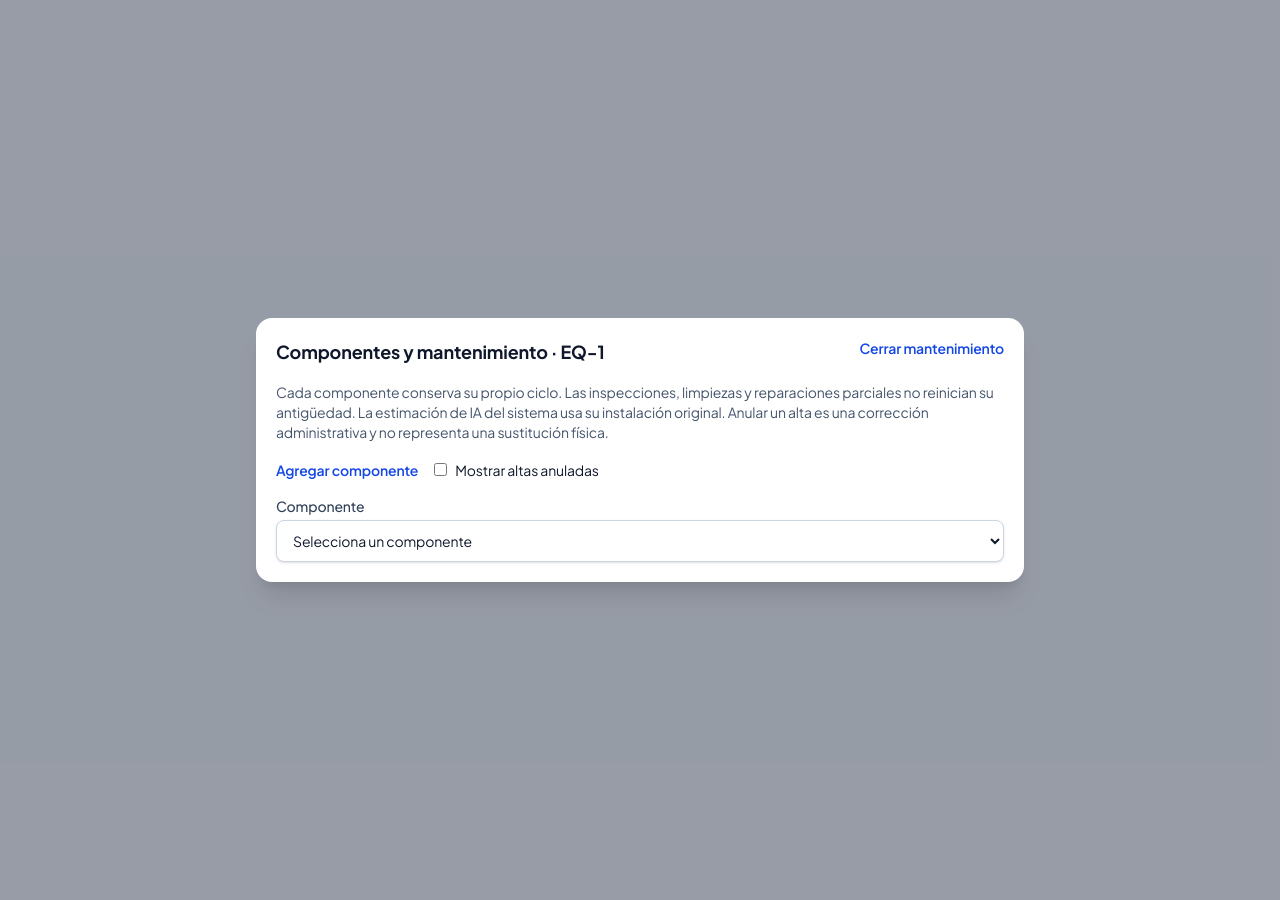
Mantenimiento por componentes › fecha inválida de componente no se transmite
The width and height of the screenshot is (1280, 900).
Click the button "Agregar componente" at (347, 470), box [276,460,418,480]
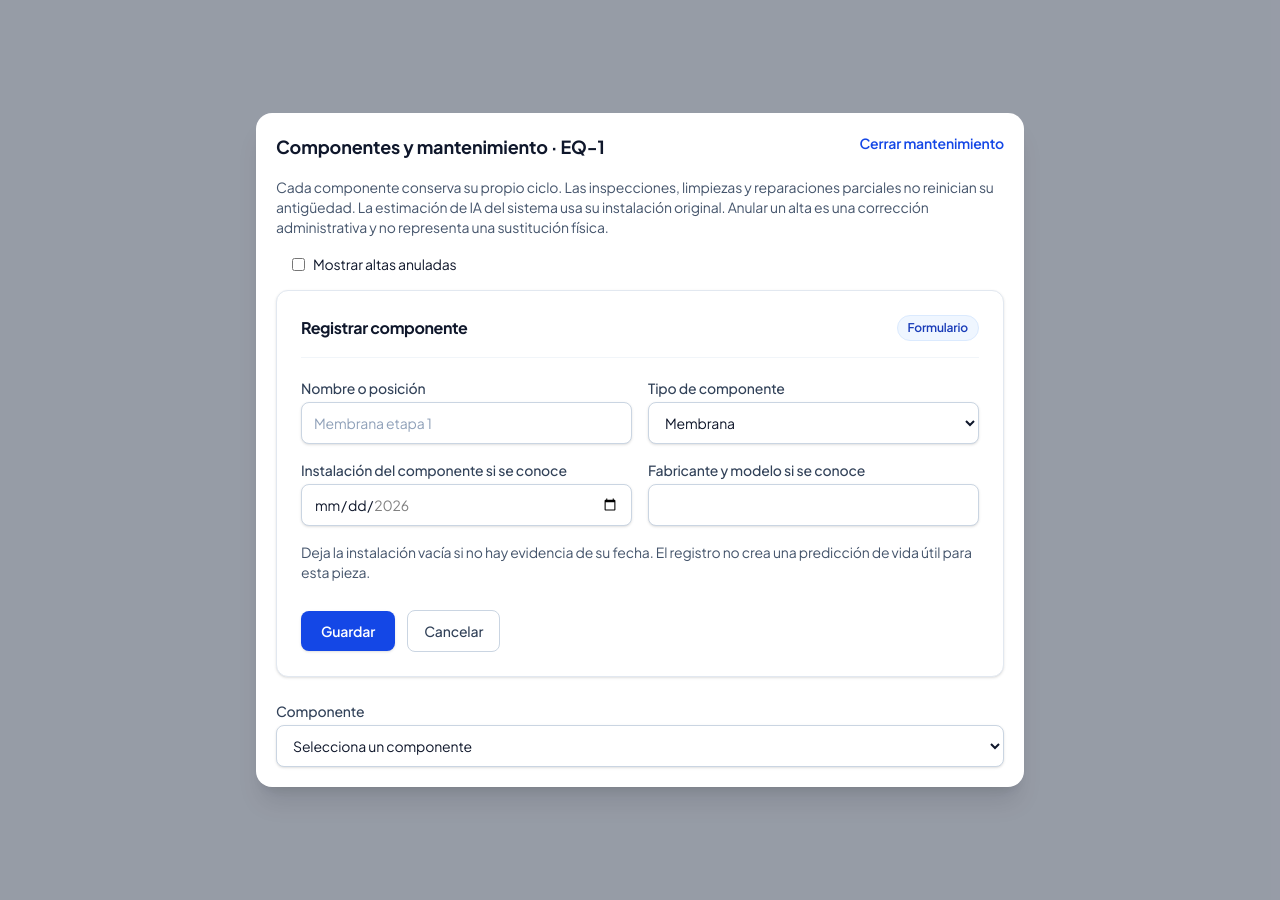
Type "Prefiltro" into the field labelled "Nombre o posición" at (466, 423), box [301,402,632,444]
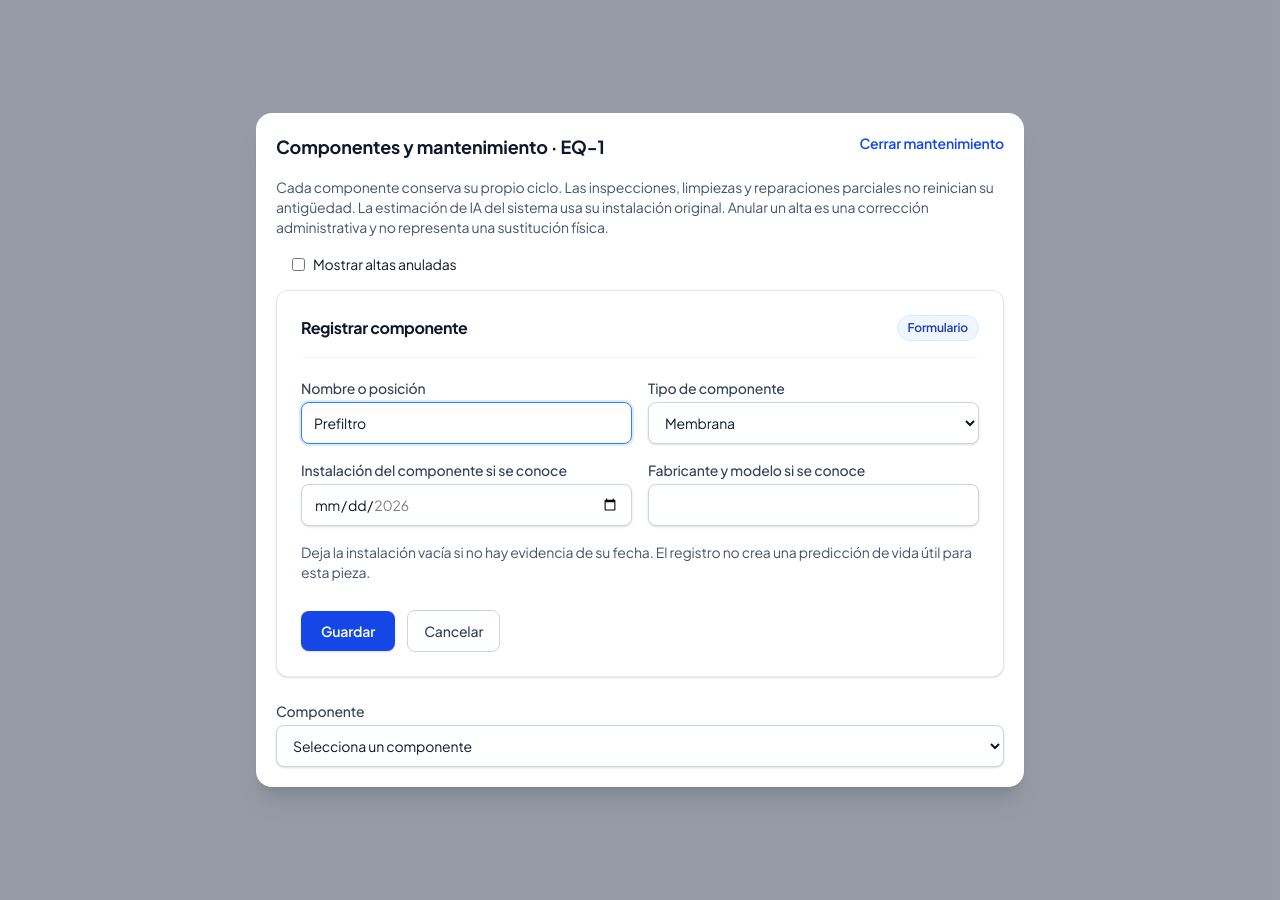
Type "2999-01-01" into the date field labelled "Instalación del componente si se conoce" at (466, 505), box [301,484,632,526]
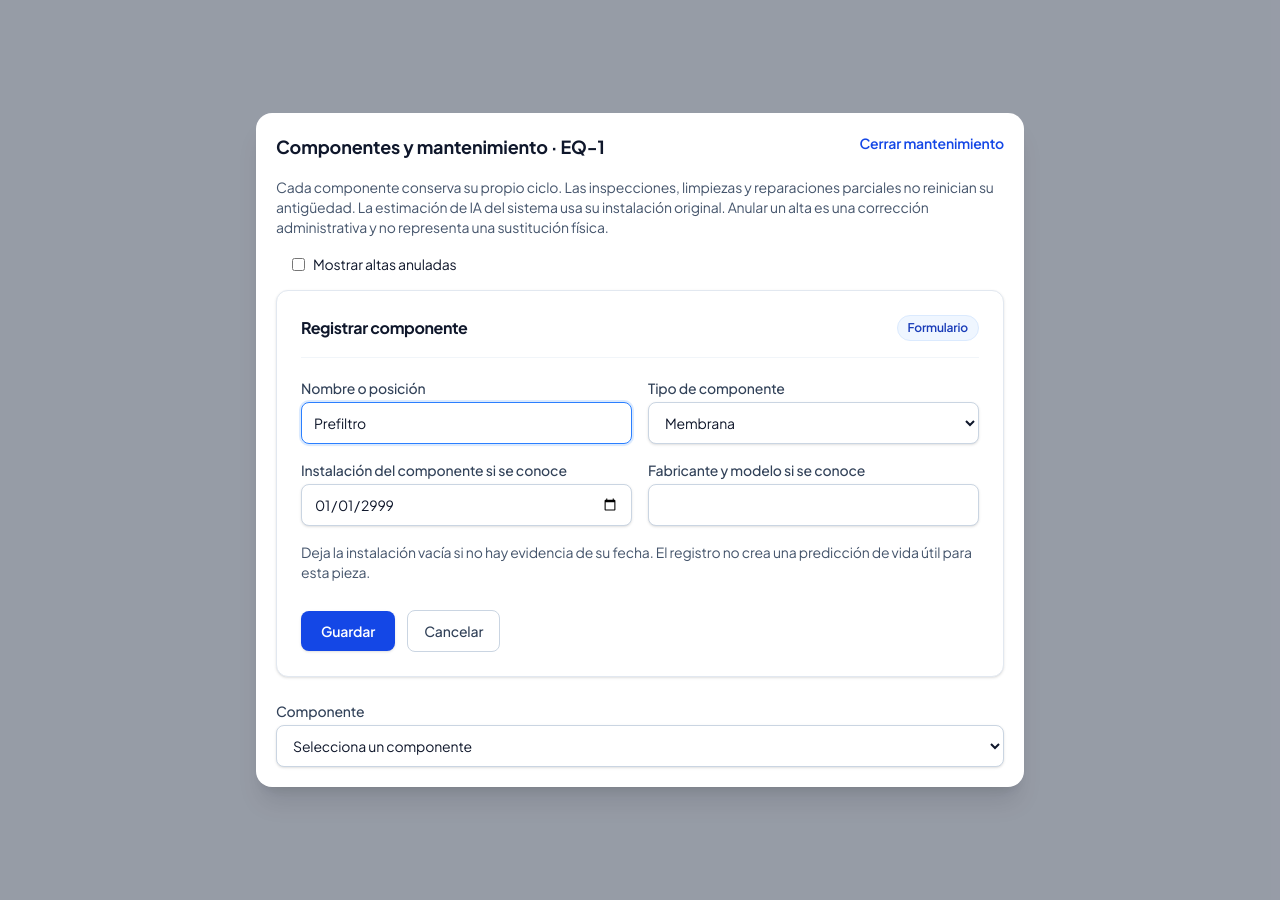
Click the button "Guardar" at (348, 631), box [301,611,395,651]
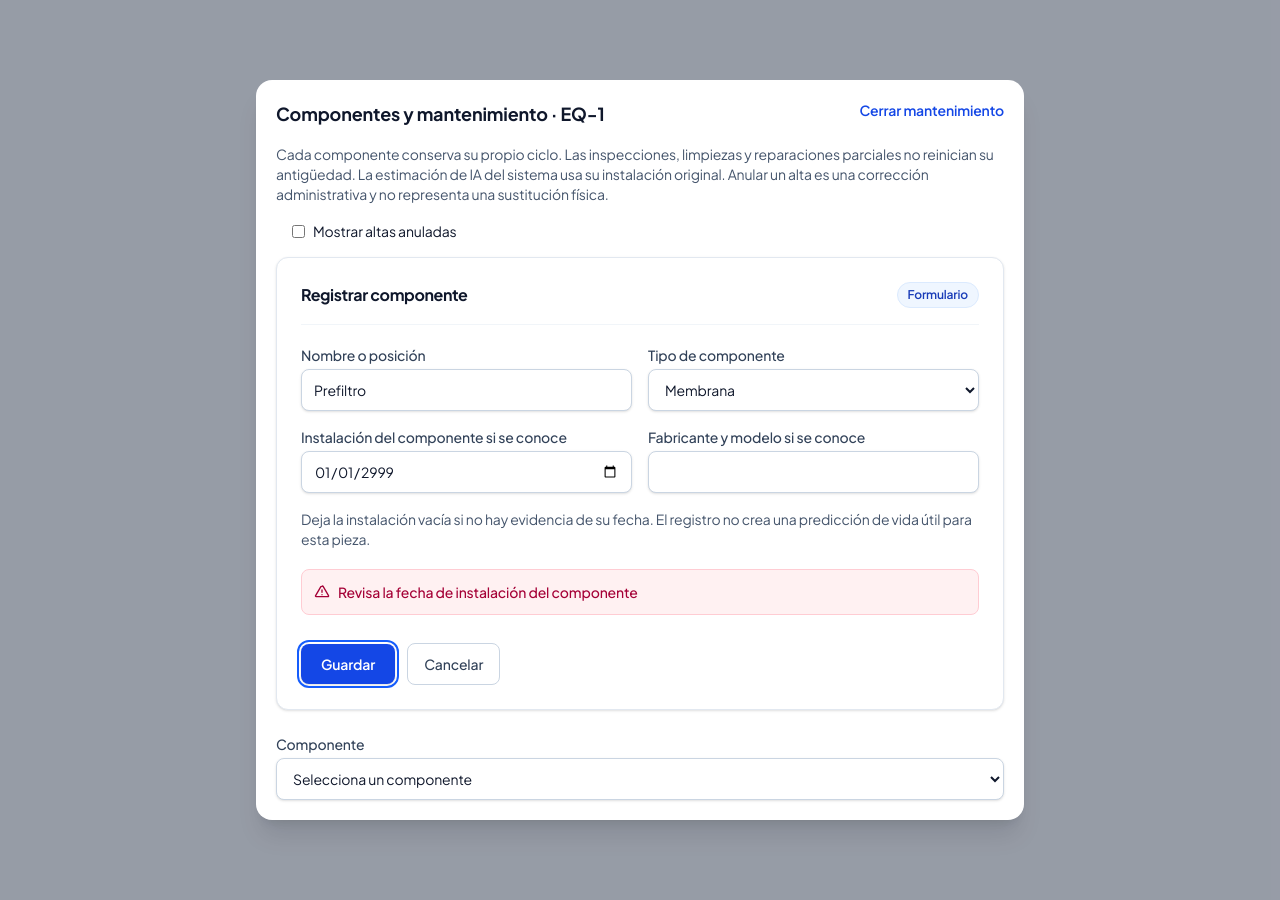
Now the message shows "fecha", box [338,583,638,601]
